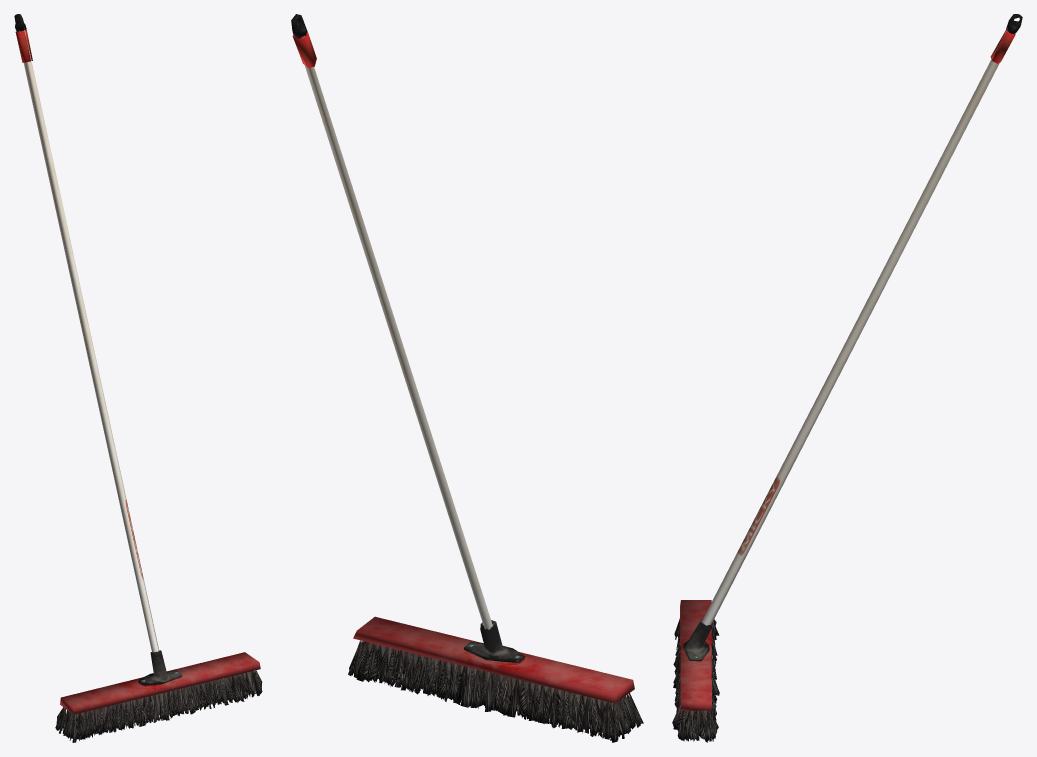
The model's file is plastic_broom.fbx.
The picture shows the model from 3 angles, left to right: view 1: azimuth 30°, elevation 25°; view 2: azimuth 150°, elevation 25°; view 3: azimuth 270°, elevation 25°; orthographic projection. The views are drawn at different scales.
Parts seen in each view (by area): view 1: plastic_broom_LOD0; view 2: plastic_broom_LOD0; view 3: plastic_broom_LOD0.
Boxes of the visible parts, left/top/right/bottom form: plastic_broom_LOD0: left=14, top=14, right=262, bottom=742; plastic_broom_LOD0: left=291, top=14, right=643, bottom=742; plastic_broom_LOD0: left=672, top=14, right=1022, bottom=742.
Size of what is drawn, in the model's own units: 41.22 by 120 by 56.31.
Materials: 2 (2 with a texture image).
